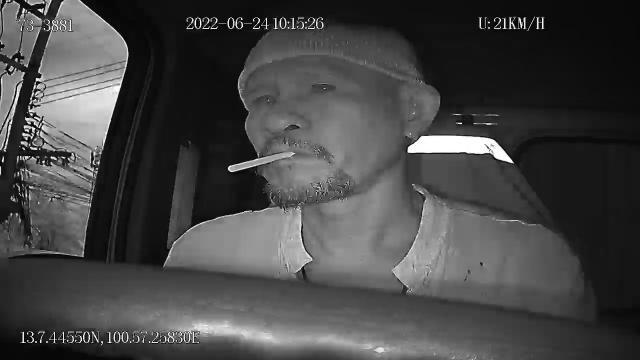SafeDriving: (302, 72, 344, 100)
Smoking: (225, 148, 298, 172)
